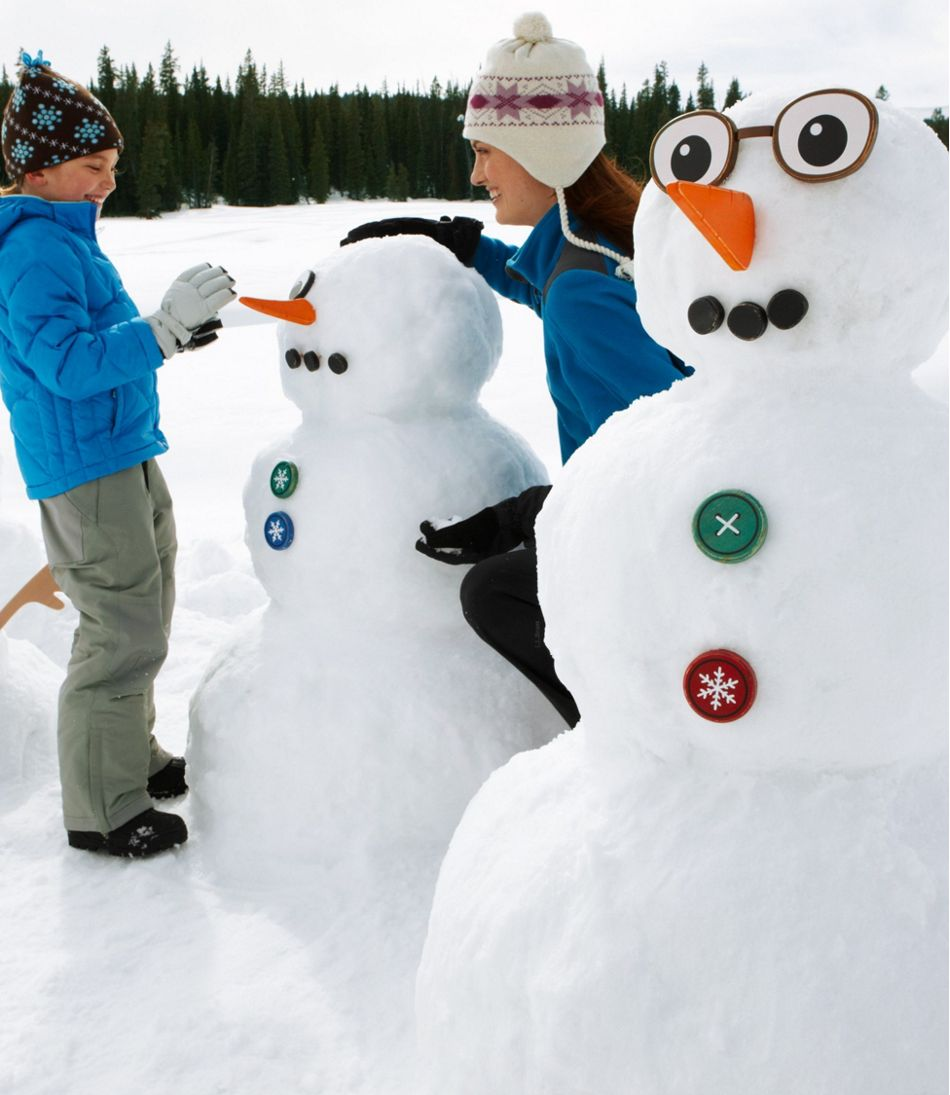person: (331, 6, 661, 727), (2, 38, 244, 862)
person-like: (405, 75, 950, 1076), (178, 223, 573, 950)
